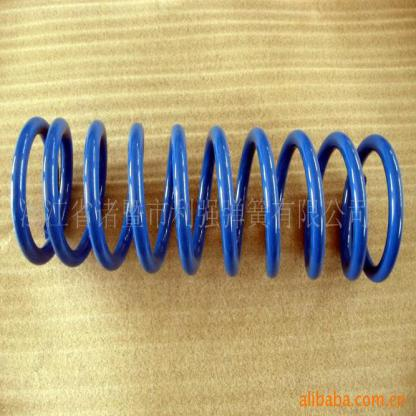FOD: (9, 111, 406, 288)
